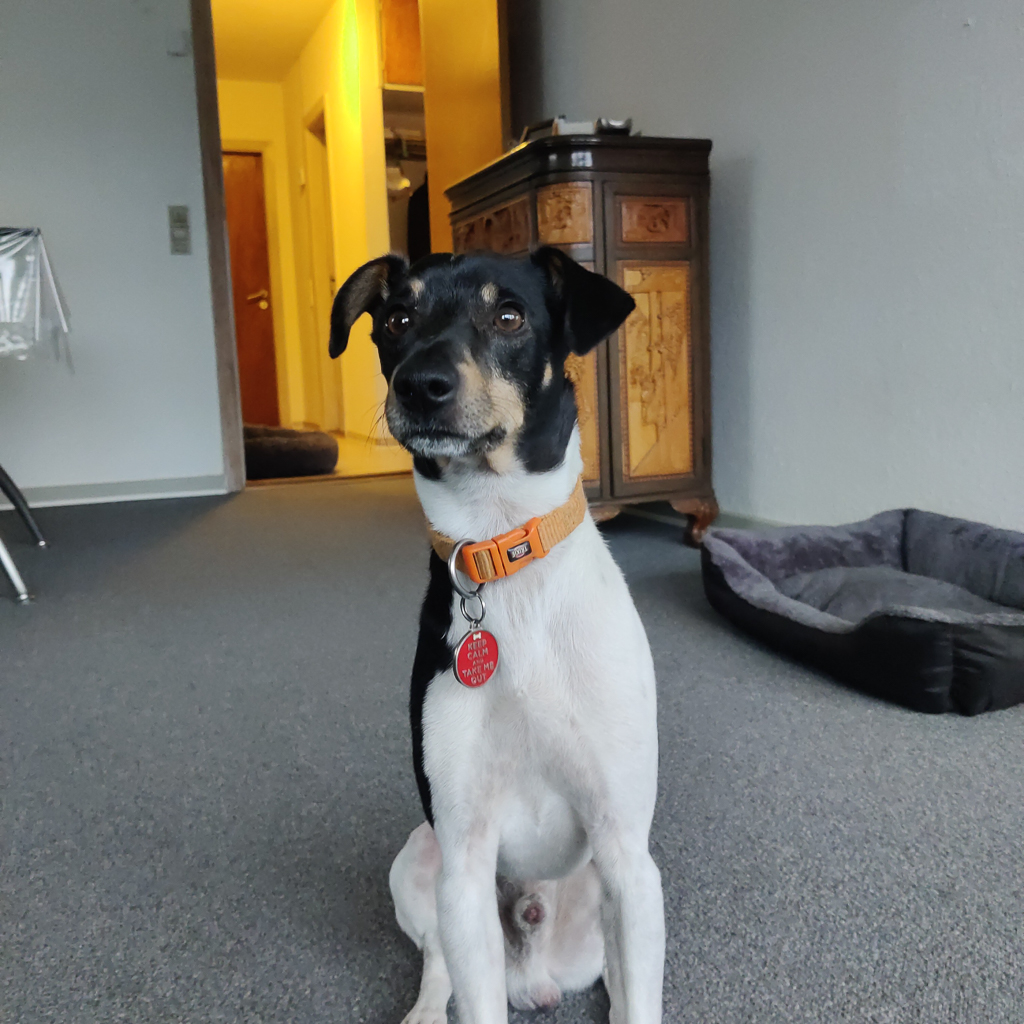Dog: (293, 228, 710, 1024)
